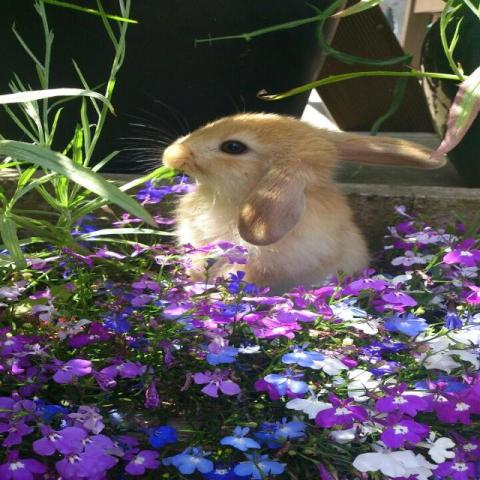small_animal: (159, 110, 448, 296)
